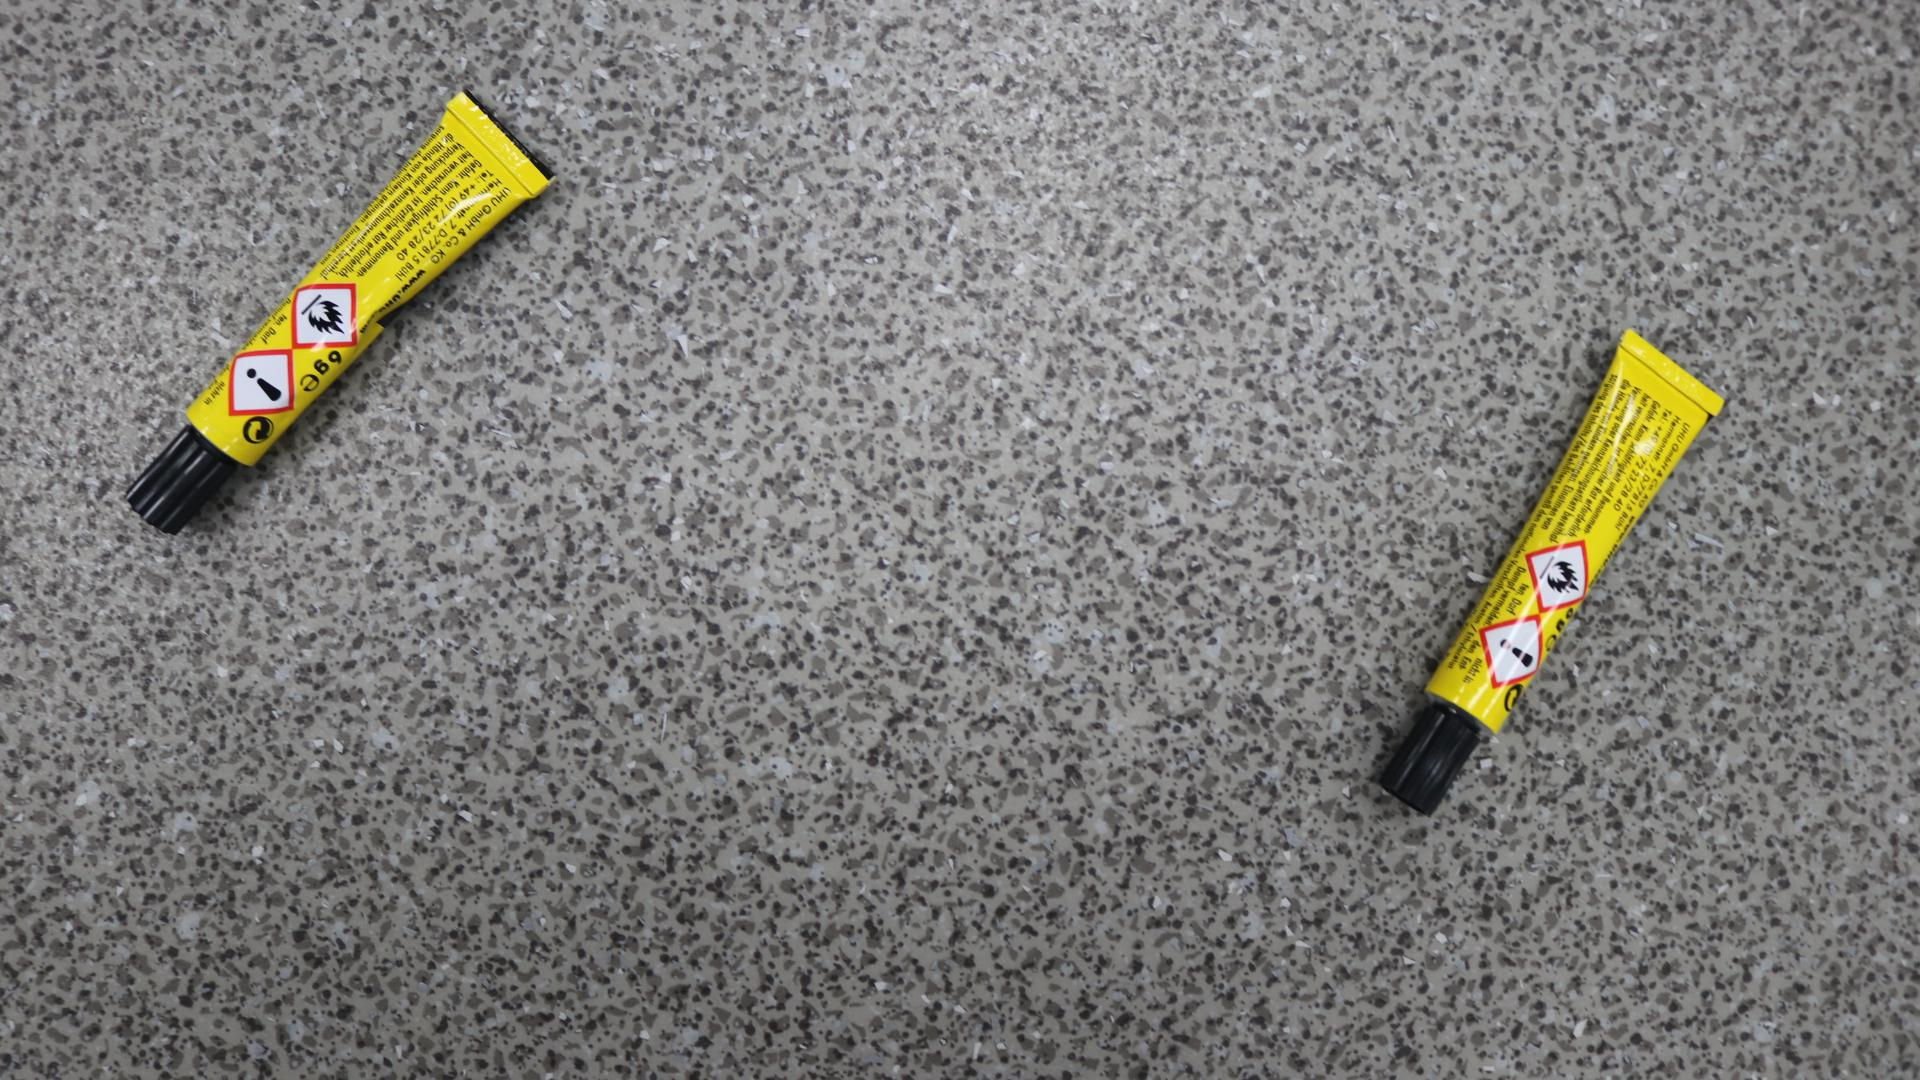Head: (173, 474, 186, 487), (1429, 753, 1441, 765)
Tail: (493, 135, 508, 150), (1669, 366, 1683, 381)
Tube: (123, 85, 551, 538), (1371, 327, 1725, 817)
